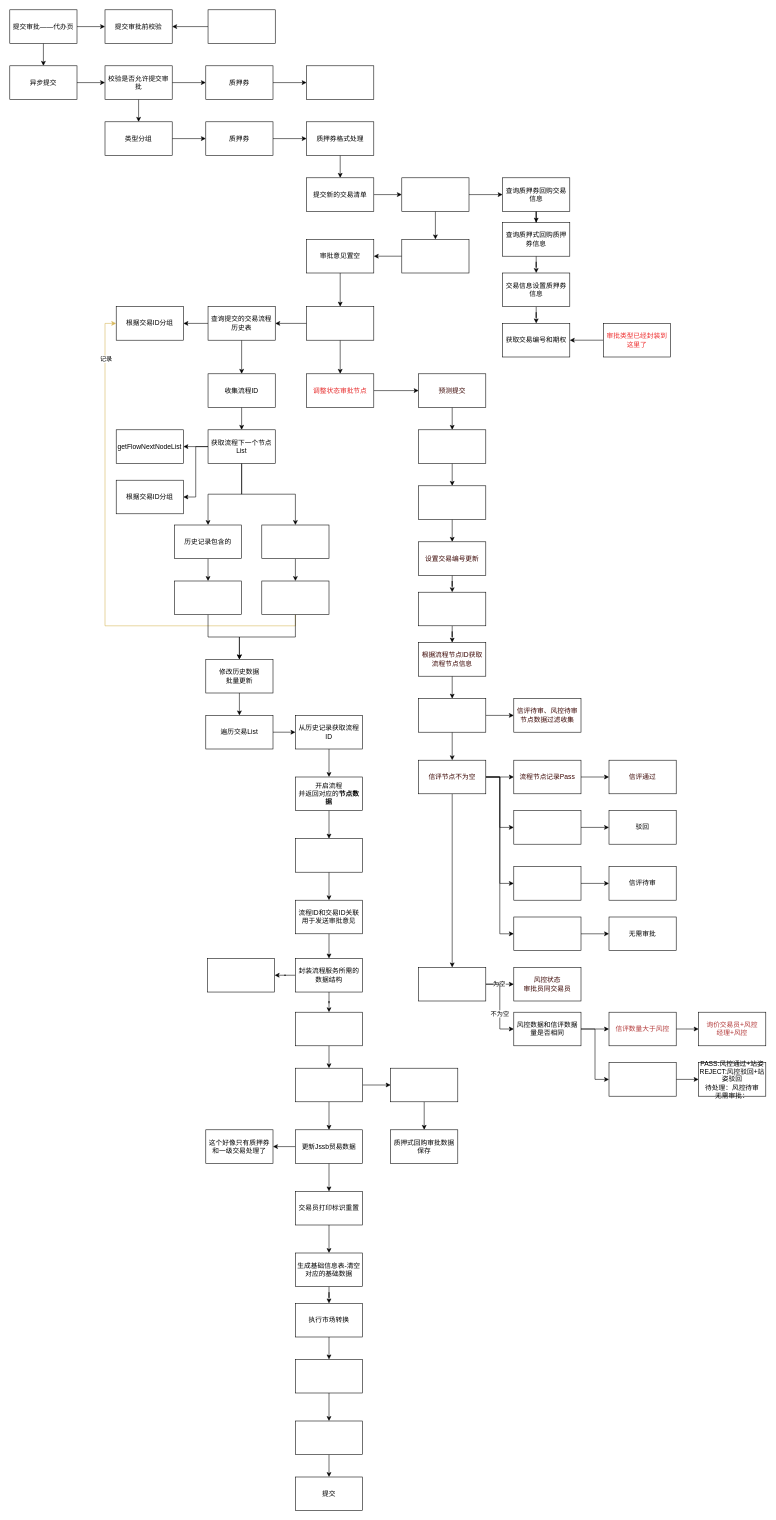
This 776x1520 diagram has some shape labels left out. Each missing label, with the centre of its shape:
List收集: (x=241, y=975)
reject: (x=547, y=827)
业务存在的数据禁止提交: (x=340, y=82)
交易员节点: (x=452, y=984)
入库: (x=295, y=597)
判断是否豁免: (x=424, y=1085)
历史记录不包含的: (x=295, y=541)
发送代办事项: (x=208, y=597)
发送通知: (x=329, y=1376)
开启流程: (x=340, y=323)
待处理: (x=547, y=883)
意见：无需审批: (x=547, y=933)
提交交易清单，准备新的: (x=435, y=194)
更新流程- 交易关联表: (x=329, y=855)
查询交易员、审批员预测流对象: (x=452, y=502)
查询需要通知的人: (x=329, y=1029)
根据业务ID查询历史交易信息: (x=452, y=609)
根据业务ID查询预测流程: (x=452, y=446)
流程开启: (x=435, y=256)
清空本人交易通知: (x=329, y=1437)
相同: (x=642, y=1079)
获得信评节点、风控节点数据: (x=452, y=715)
质押式逆回购处理: (x=329, y=1085)
通用: (x=241, y=26)
